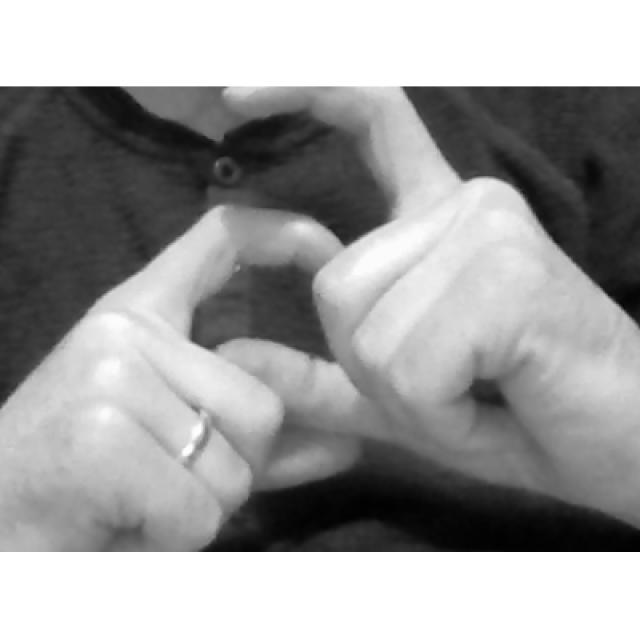G-: (0, 87, 637, 550)
